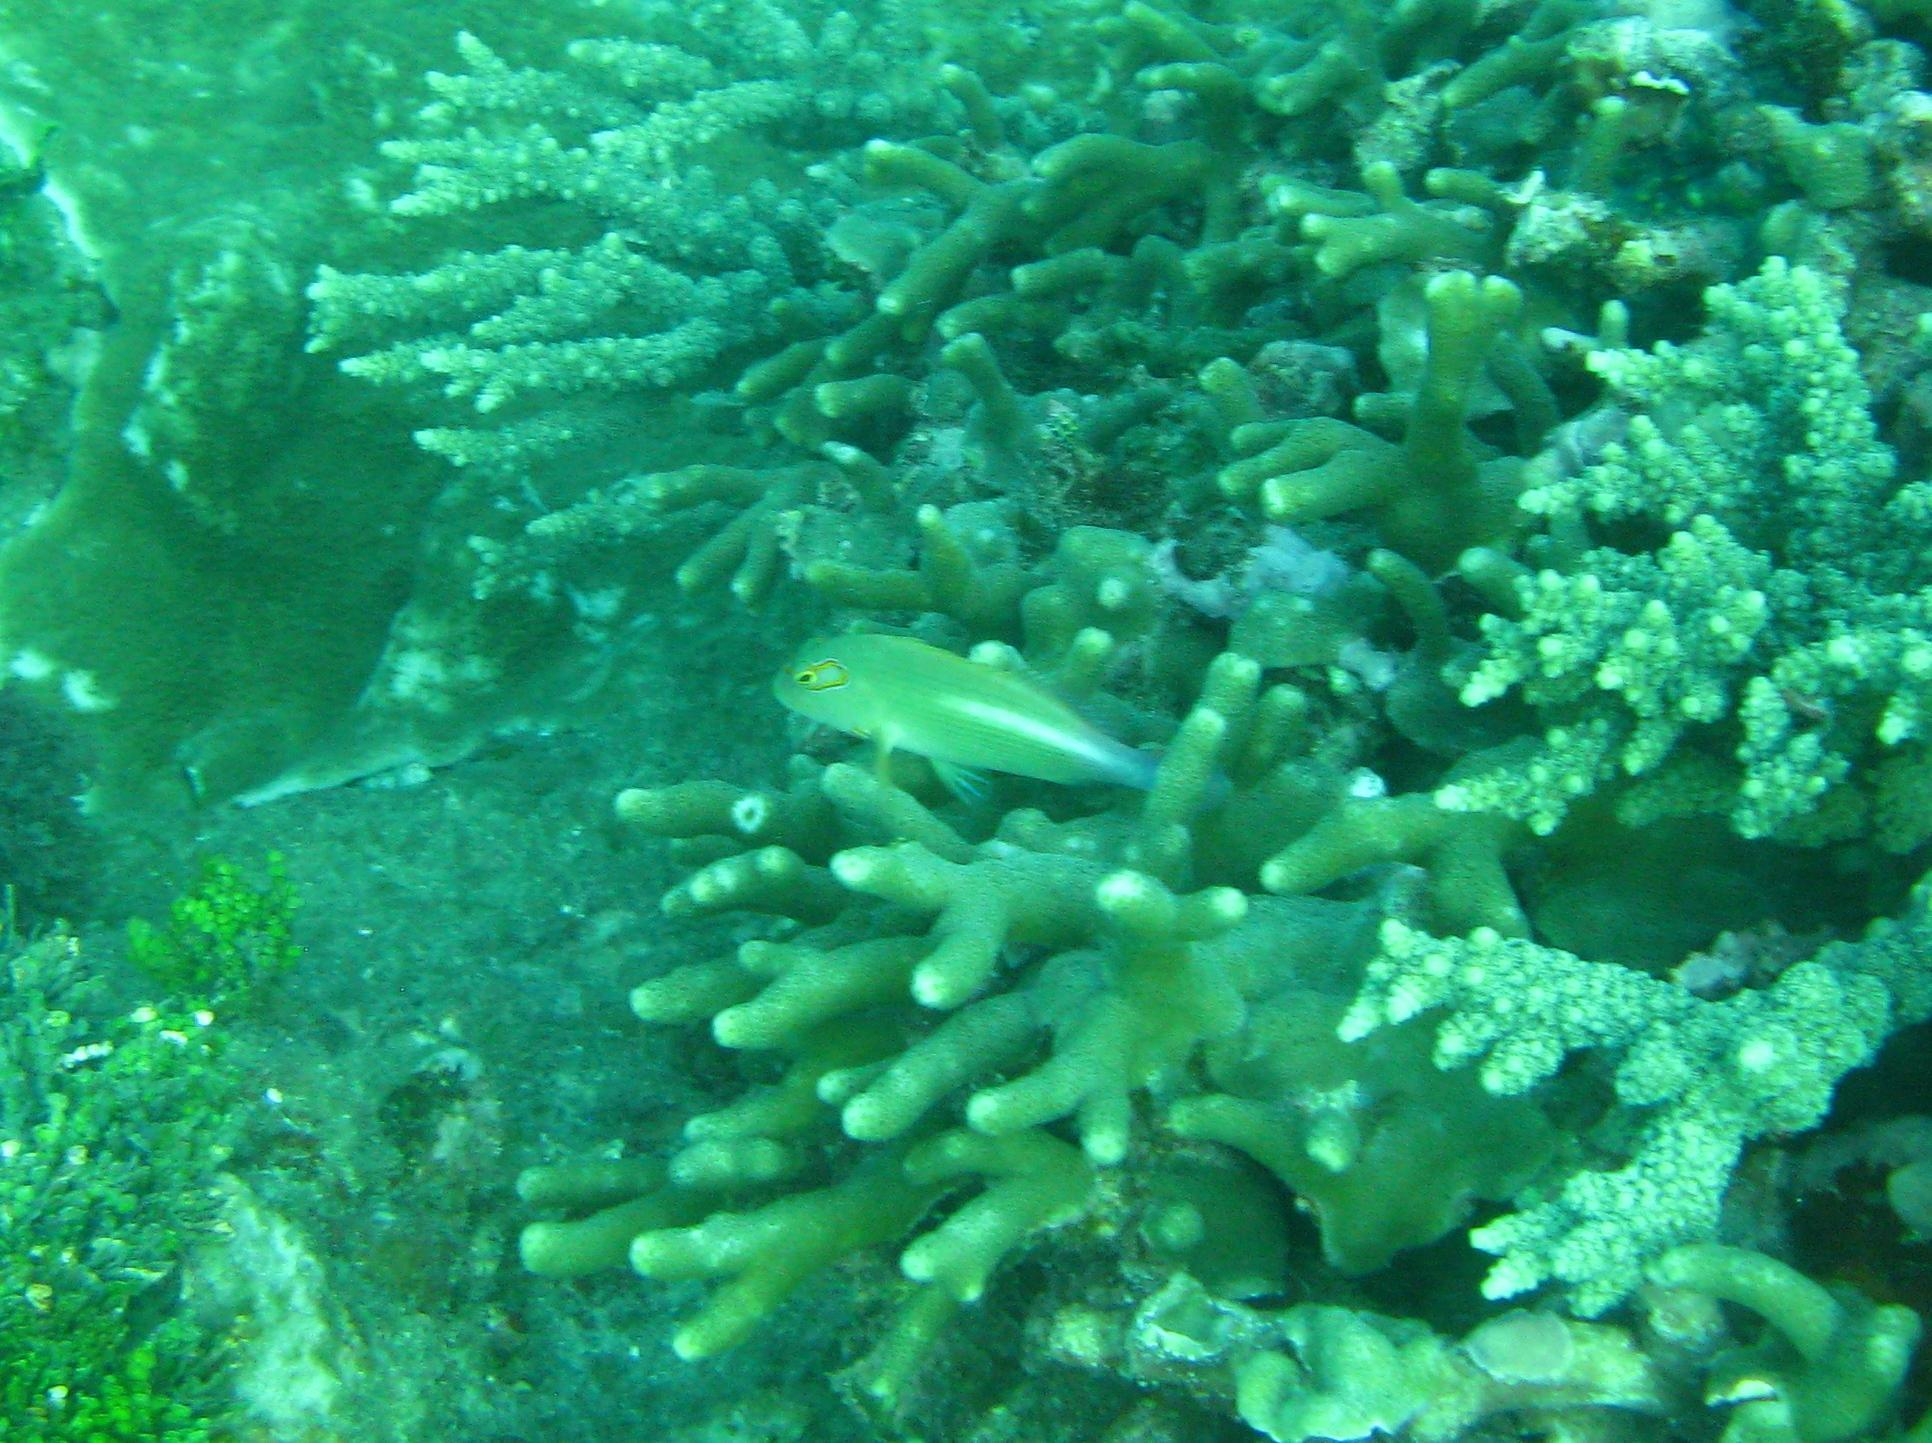Fish: (764, 594, 1208, 850)
